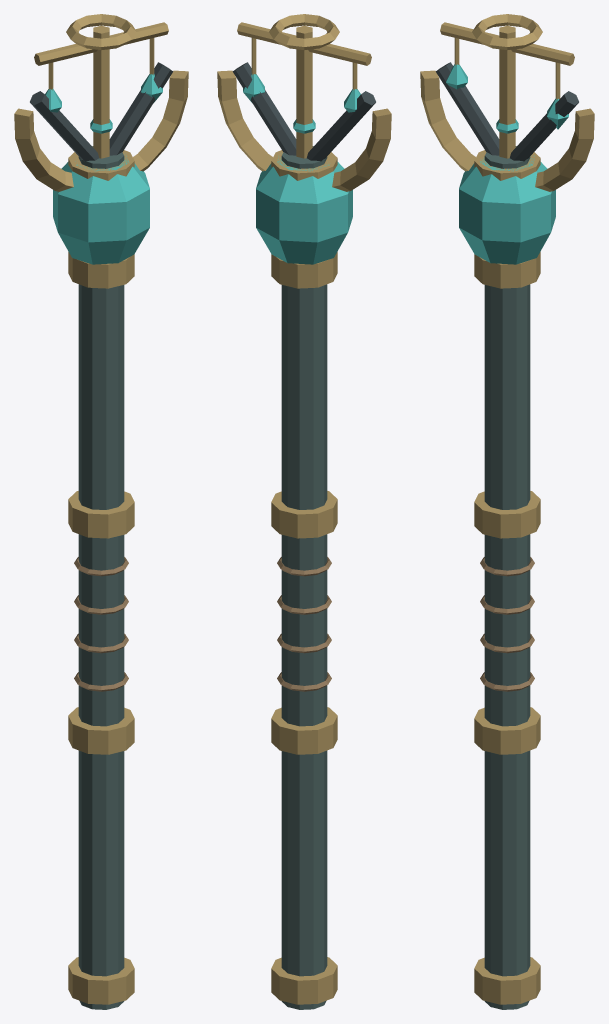
Rendered from Arsenal_TideConductor.fbx.
3 views of the same model, side by side, from view 1: azimuth 30°, elevation 25°; view 2: azimuth 150°, elevation 25°; view 3: azimuth 330°, elevation 25° (orthographic).
Parts seen in each view (by area): view 1: Arsenal_TideConductor; view 2: Arsenal_TideConductor; view 3: Arsenal_TideConductor.
Boxes of the visible parts, x1,y1,x2,y2 form: Arsenal_TideConductor: (14, 14, 188, 1009); Arsenal_TideConductor: (217, 14, 391, 1009); Arsenal_TideConductor: (420, 14, 594, 1009).
Size of the model in its own units: 0.3801 by 2.03 by 0.19.
